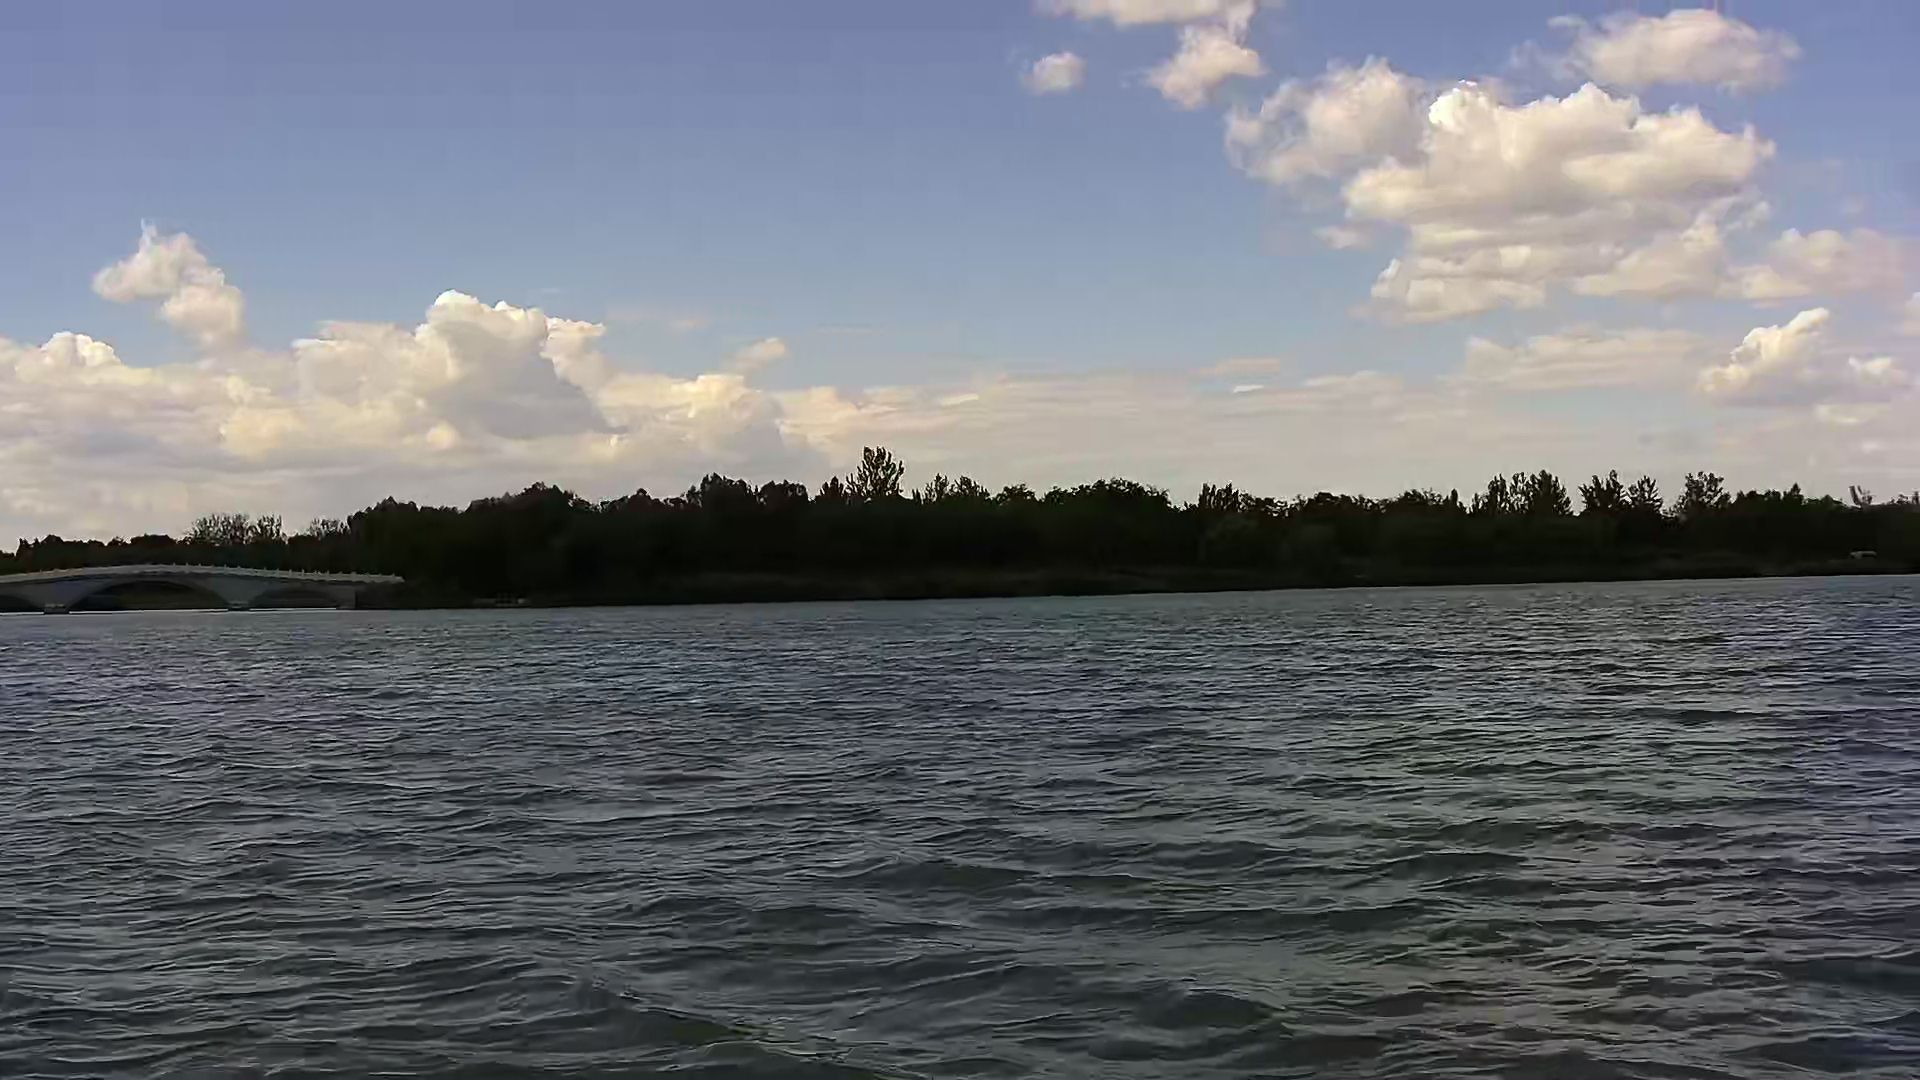bridge: (1, 560, 402, 617)
